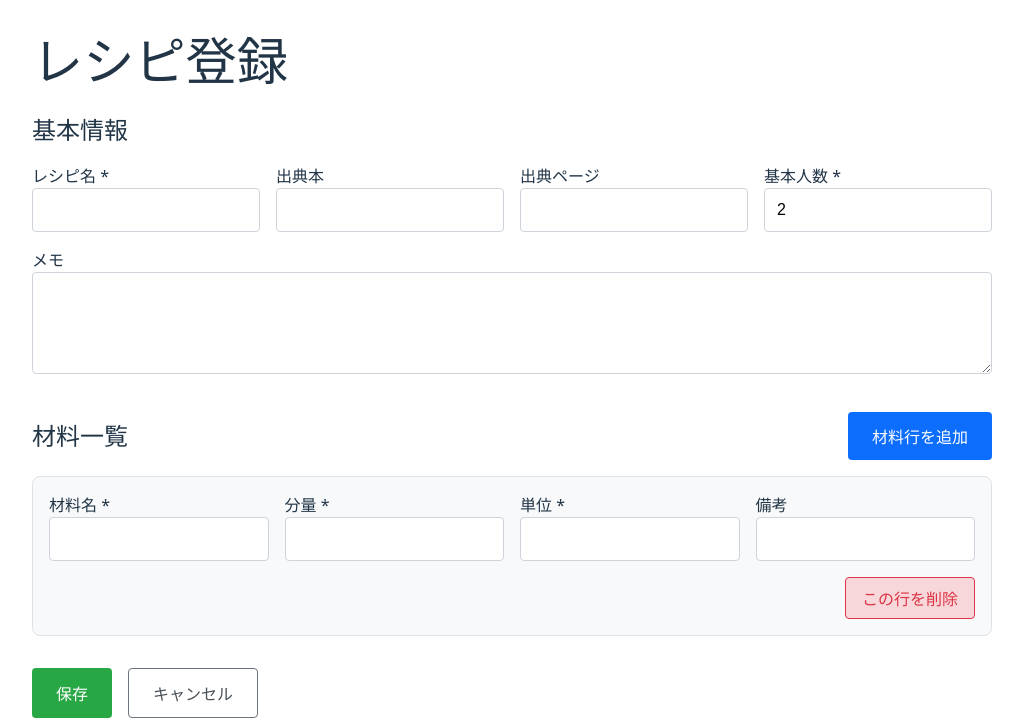
Test case: RecipeNewPage › 必須項目のエラーを表示して送信しない
The width and height of the screenshot is (1024, 727).
Clear the number field labelled "基本人数 *": (878, 210) [764,188,992,232]
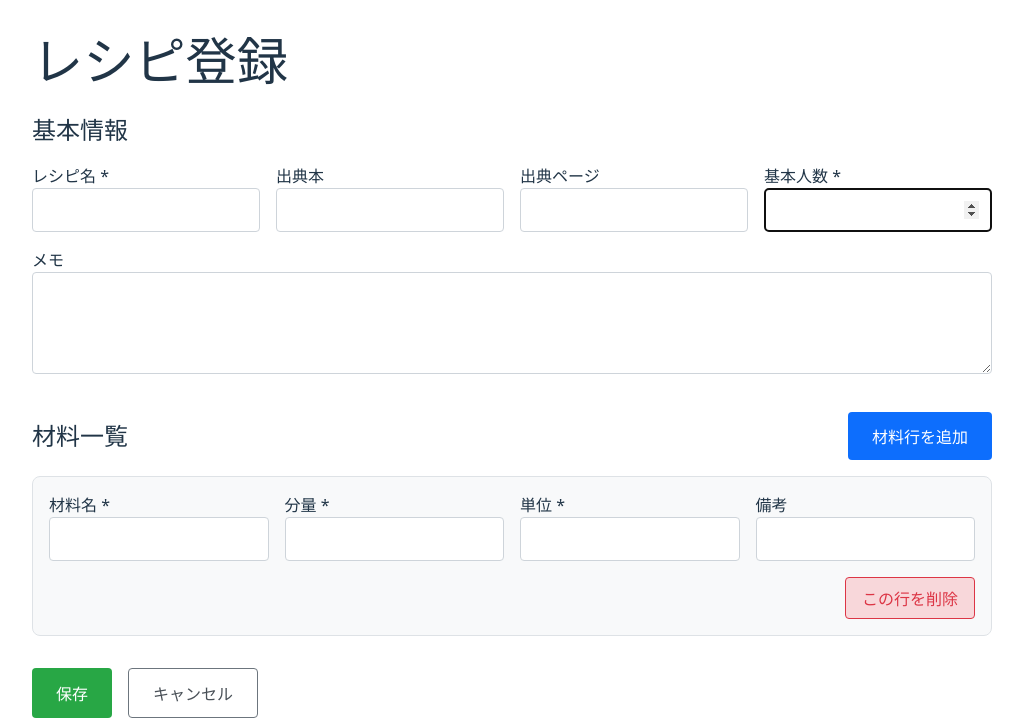
Click the button "保存": (72, 693) [32,668,112,718]
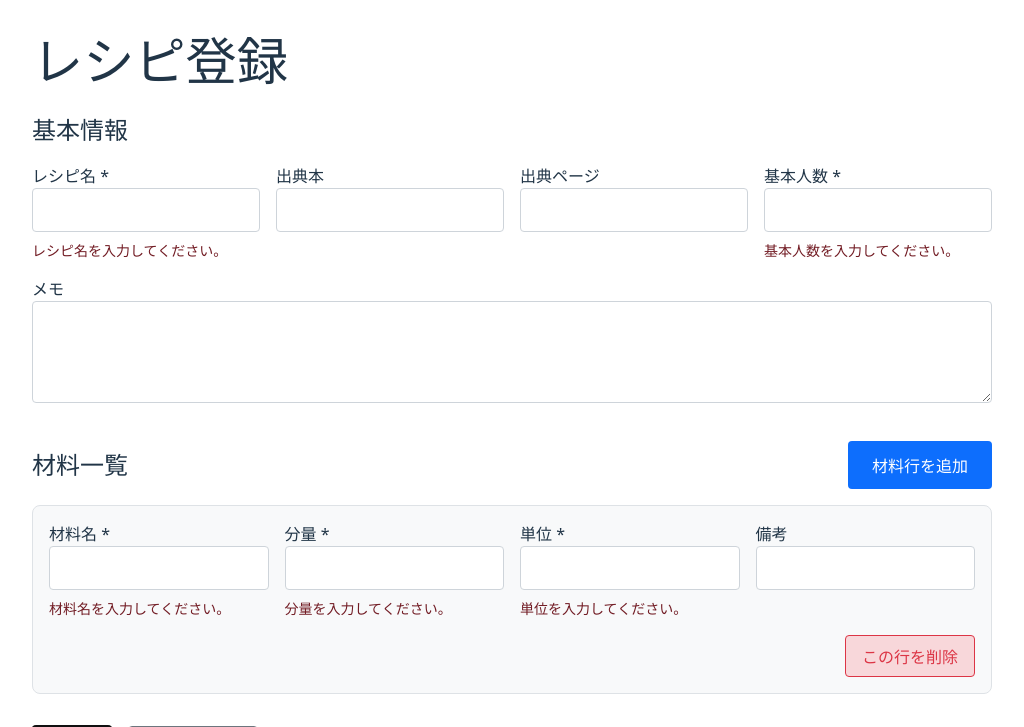
Expected: the text "レシピ名を入力してください。" is shown, [32,240,260,261]
Expected: the text "基本人数を入力してください。" is shown, [764,240,992,261]
Expected: the text "材料名を入力してください。" is shown, [49,599,230,618]
